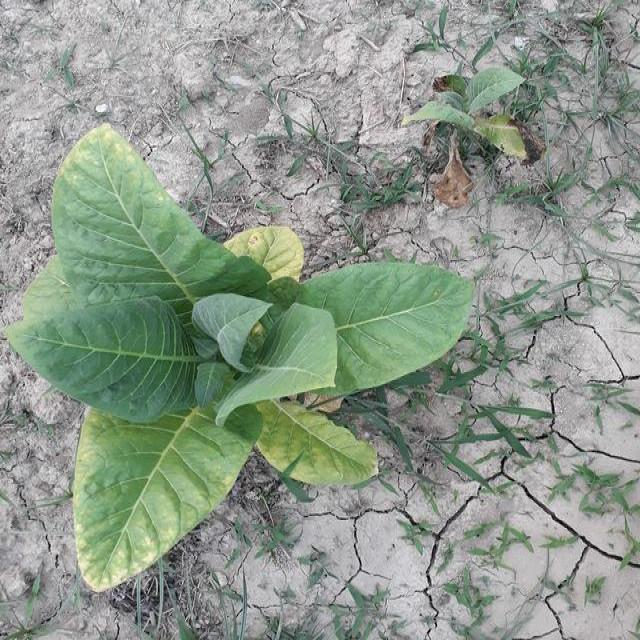crop: (15, 119, 470, 592)
